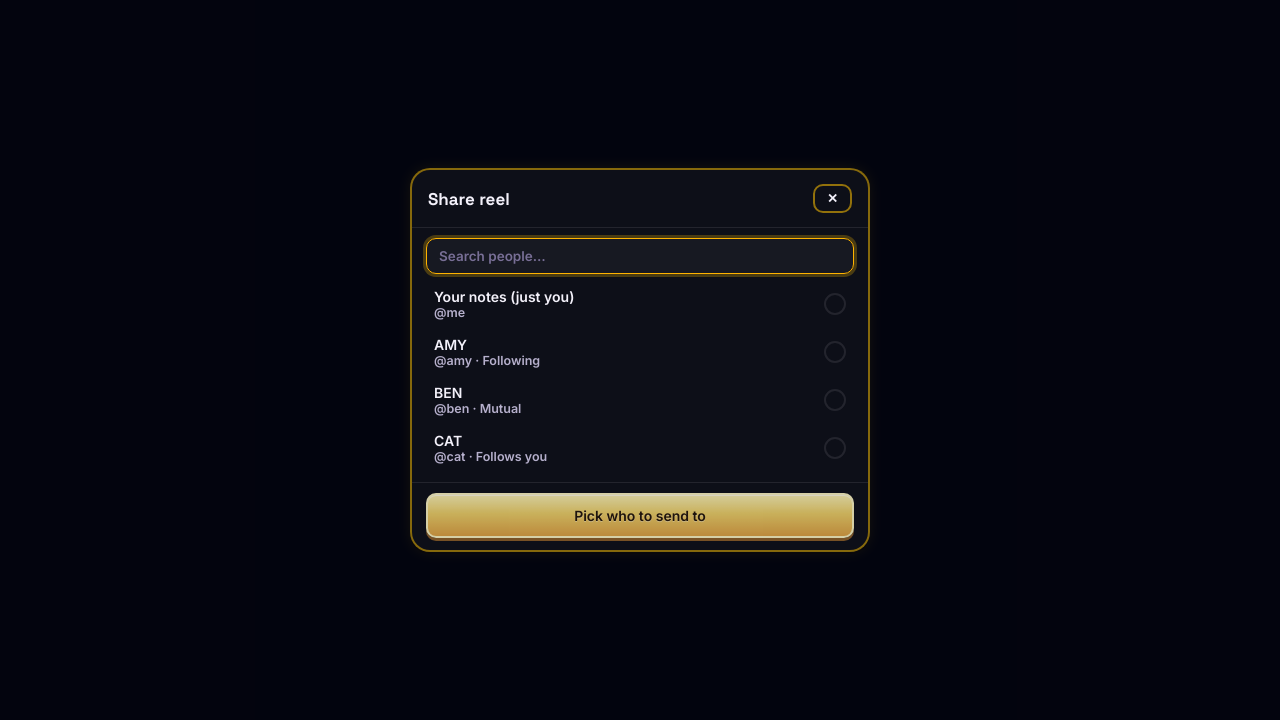
Test: ShareSheet › lists following and followers (no duplicates), filters by search, and sends to the people picked
The image size is (1280, 720).
expect the text "AMY" is shown: met, box x1=434 y1=336 x2=467 y2=353
expect the text "BEN" is shown once: met, box x1=434 y1=384 x2=462 y2=401
In the field with placeholder "Search people…": (640, 256) x1=426 y1=238 x2=854 y2=274, type "ca"
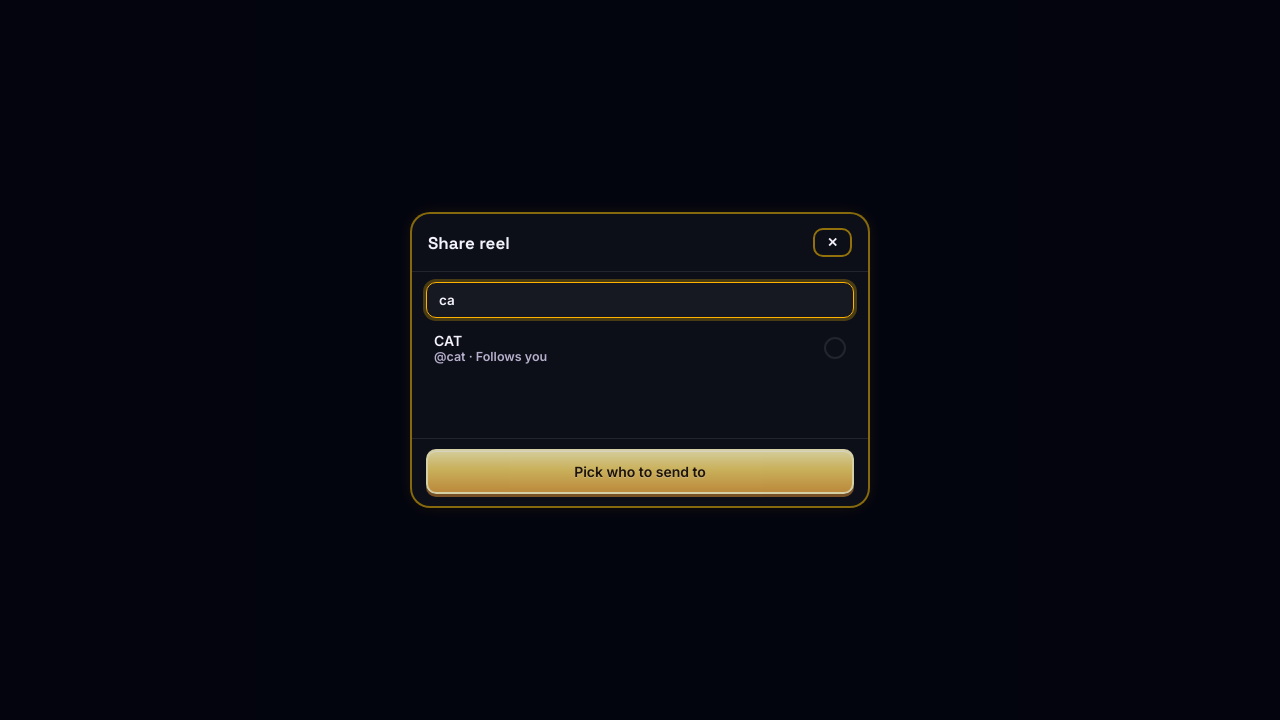
expect the text "CAT" is shown: met, box x1=434 y1=332 x2=462 y2=349
expect the checkbox "AMY" is gone: met
Clear the field with placeholder "Search people…": (640, 300) x1=426 y1=282 x2=854 y2=318
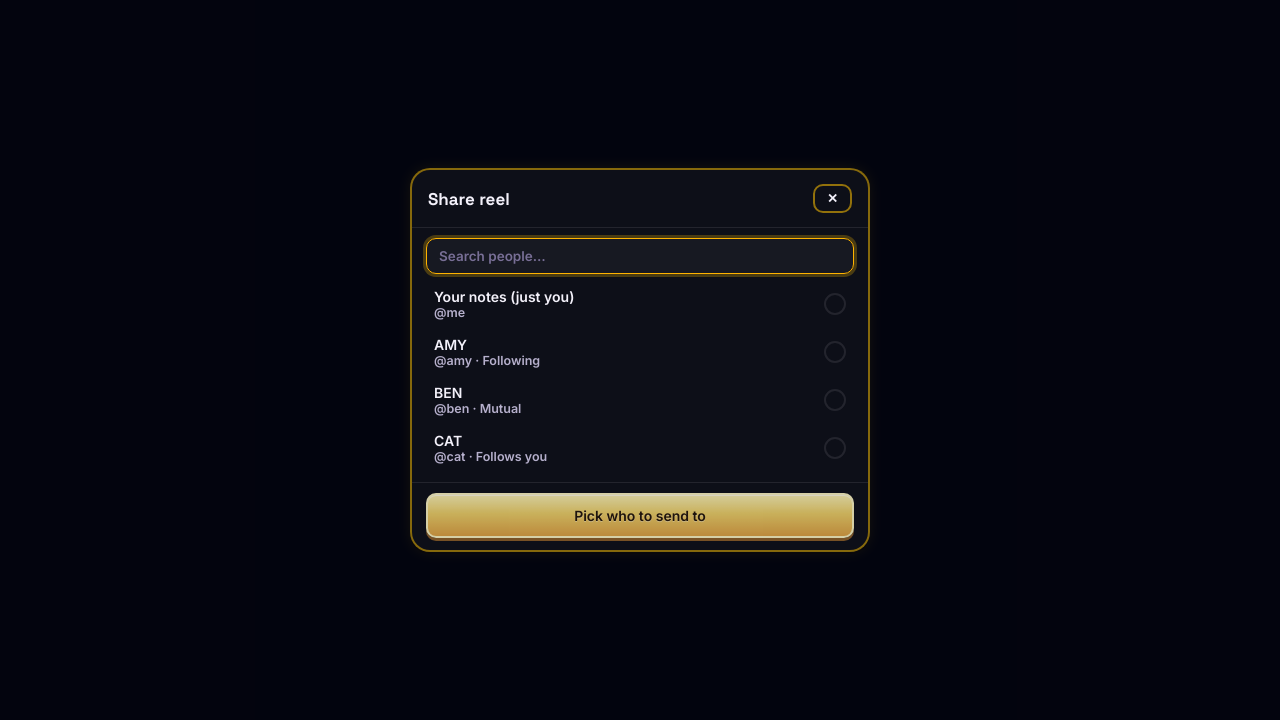
Click the text "AMY": click(451, 344) x1=434 y1=336 x2=467 y2=353
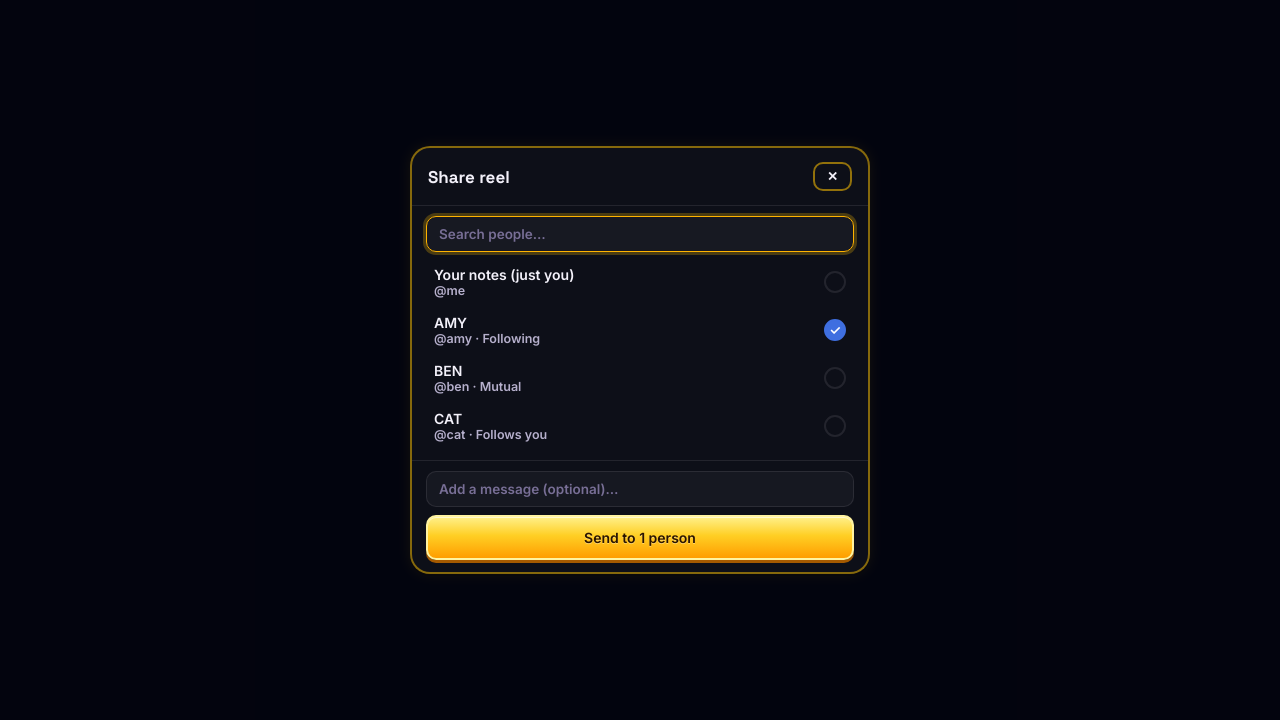
Click the text "CAT": click(448, 418) x1=434 y1=410 x2=462 y2=427
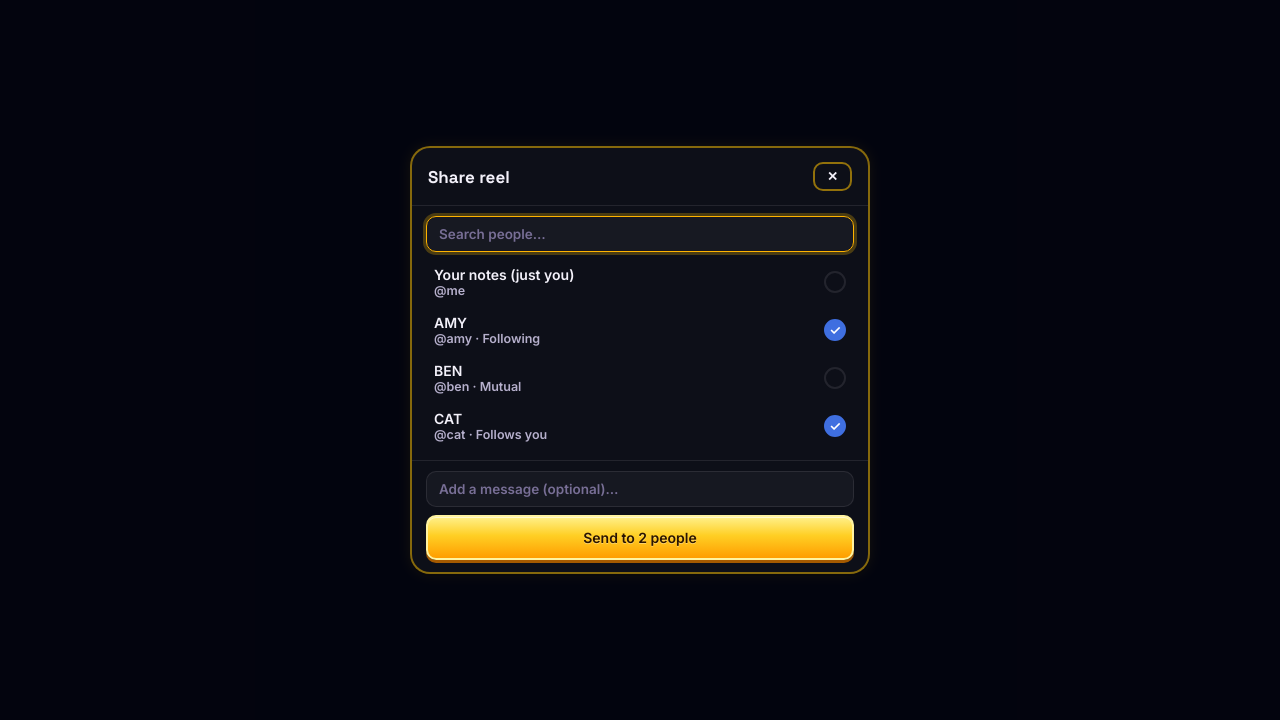
Click the button "Send to 2 people": click(640, 538) x1=426 y1=515 x2=854 y2=560
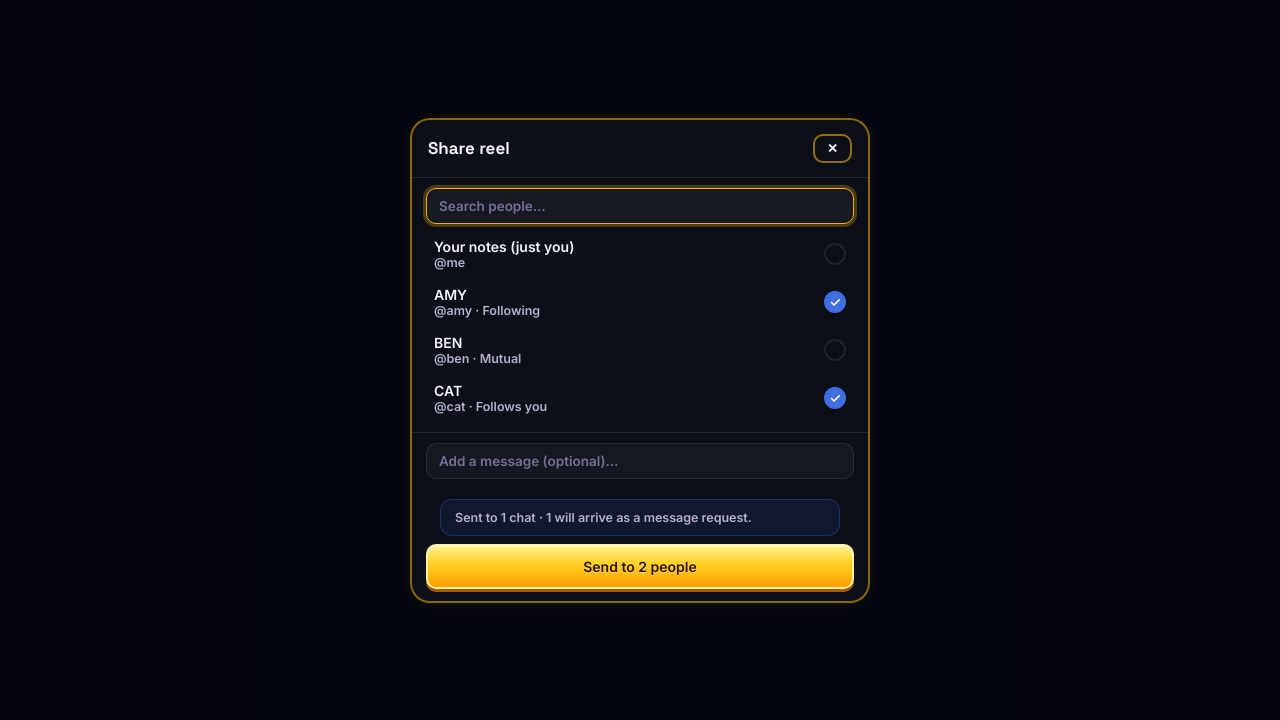
expect the text "Sent to 1 chat · 1 will arrive as a message request." is shown: met, box x1=440 y1=498 x2=840 y2=536
